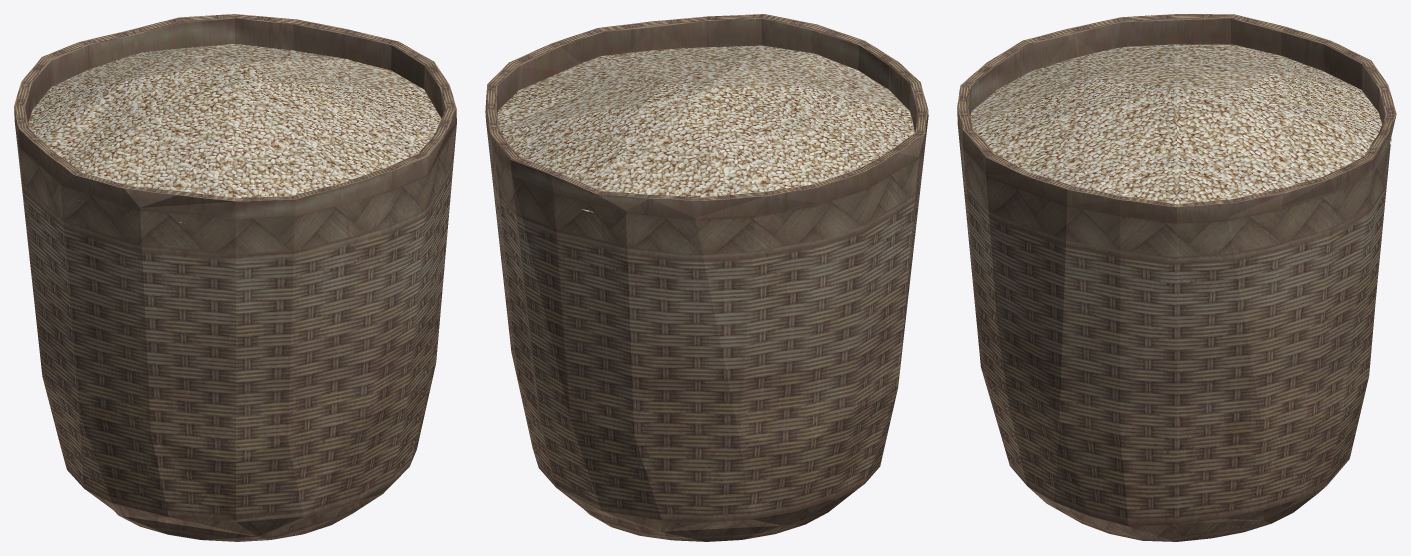
3 views of the same model, side by side, from view 1: azimuth 30°, elevation 25°; view 2: azimuth 150°, elevation 25°; view 3: azimuth 270°, elevation 25° (orthographic).
Visible parts, largest first — view 1: 3D_MI.mo; view 2: 3D_MI.mo; view 3: 3D_MI.mo.
Part boxes in pixels (x1,y1,x2,y2): 3D_MI.mo: (14,14,456,541); 3D_MI.mo: (485,14,928,541); 3D_MI.mo: (957,14,1396,541).
Size of the model in its own units: 45.55 by 44.57 by 44.58.
Materials: 1 (1 with a texture image).
